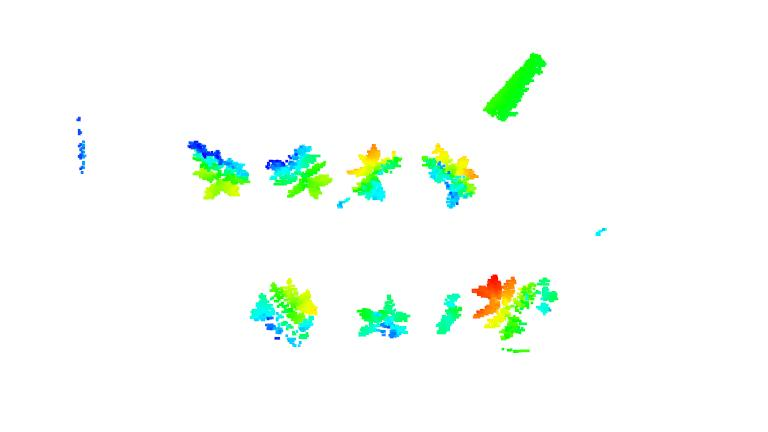chickpea: (470, 273, 561, 341), (246, 278, 319, 347), (418, 141, 480, 210), (261, 143, 331, 203), (184, 139, 248, 199), (345, 144, 403, 203), (355, 293, 413, 341), (433, 292, 466, 335)
